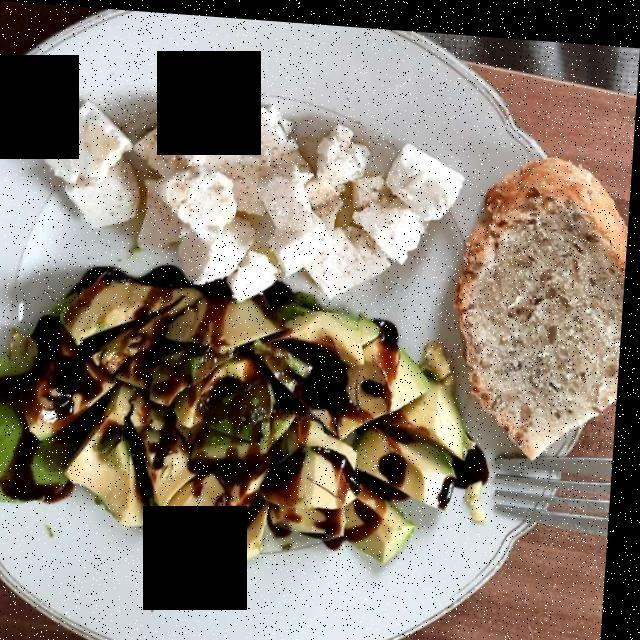avocado: (0, 272, 496, 582)
bread: (464, 152, 624, 438)
cheese: (69, 98, 457, 287)
